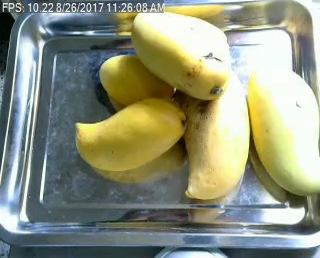Mango: (248, 65, 320, 193), (181, 67, 249, 198), (131, 9, 228, 98), (76, 97, 189, 170), (101, 54, 176, 105)
